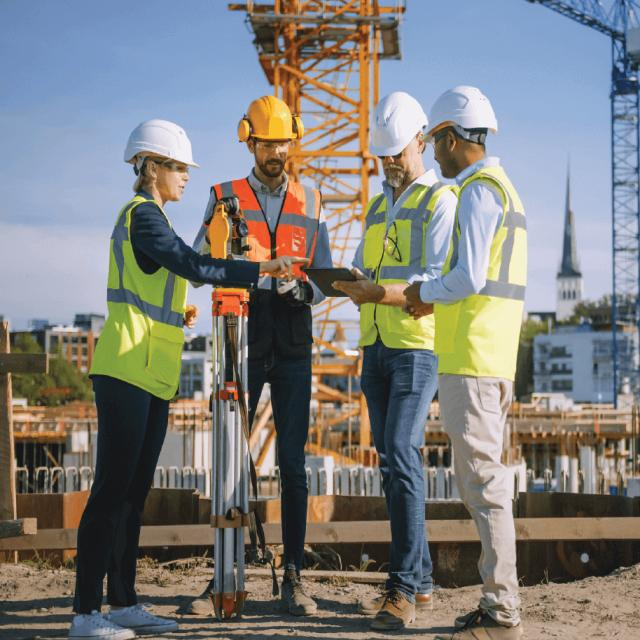helmet: (112, 104, 209, 178), (416, 76, 507, 140), (353, 89, 428, 164), (239, 85, 300, 145)
vest: (92, 188, 198, 393), (448, 172, 539, 392), (356, 168, 448, 363), (206, 172, 336, 305)
